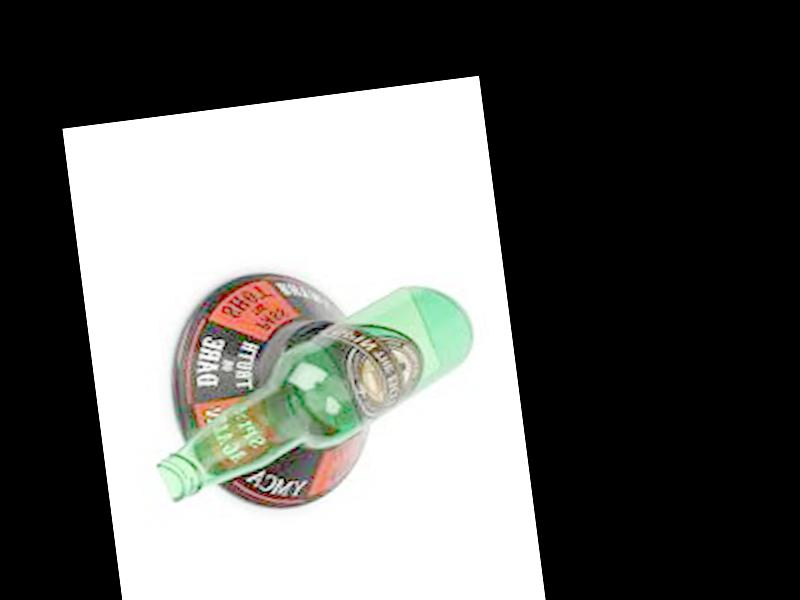Beer: (137, 276, 488, 501)
